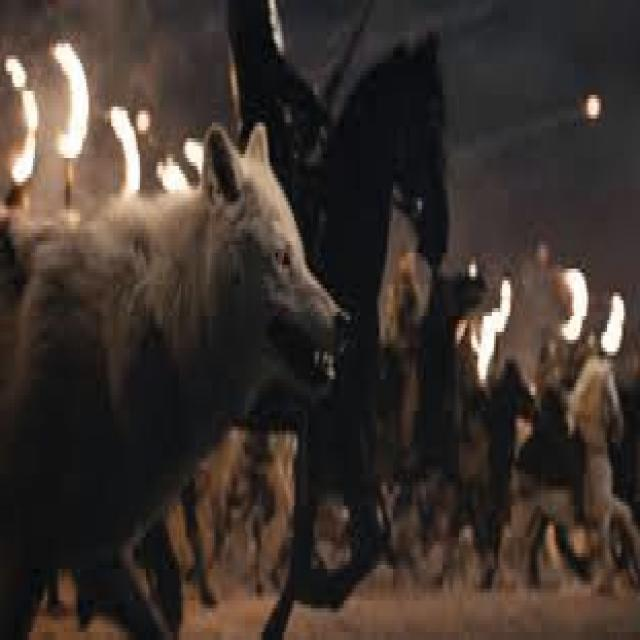wolf: (2, 122, 340, 636)
